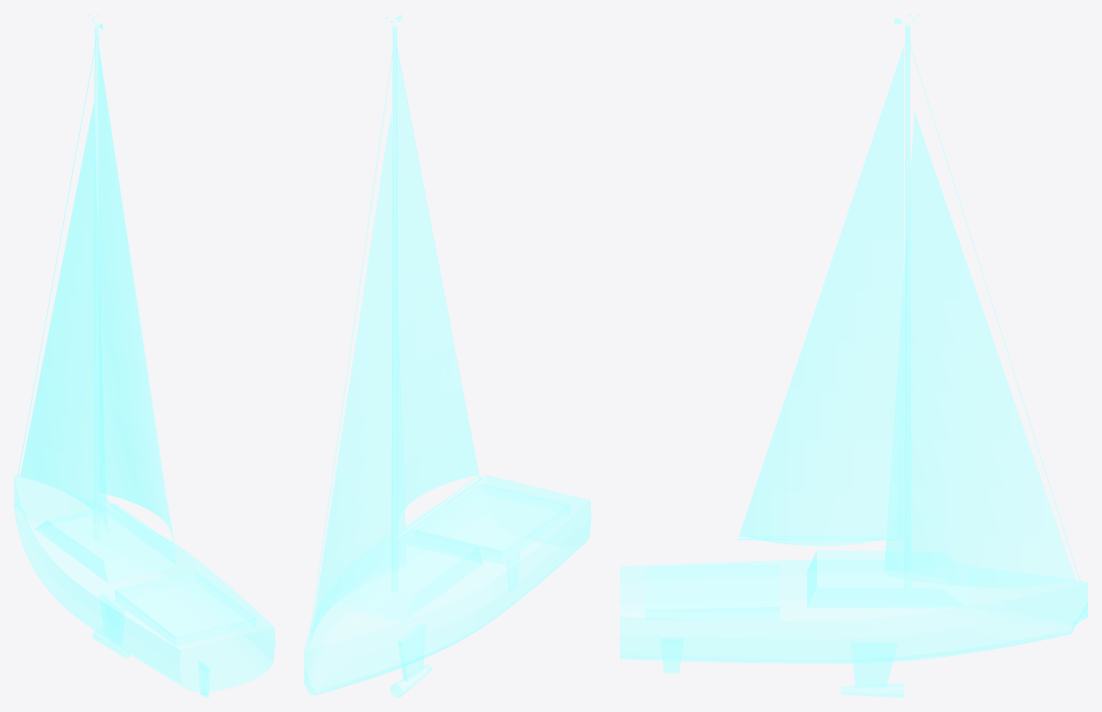
Rendered from vela.glb.
3 views of the same model, side by side, from view 1: azimuth 30°, elevation 25°; view 2: azimuth 150°, elevation 25°; view 3: azimuth 270°, elevation 25° (orthographic). The views are drawn at different scales.
Parts seen in each view (by area): view 1: Vela_Hull_Core, Vela_Sail_Jib, Vela_Sail_Main, Vela_Cabin_Core, Vela_Cockpit_Core, Vela_Mast, Vela_Keel, Vela_Forestay, Vela_Boom; view 2: Vela_Hull_Core, Vela_Sail_Jib, Vela_Sail_Main, Vela_Cabin_Core, Vela_Cockpit_Core, Vela_Mast, Vela_Keel, Vela_Forestay, Vela_Keel_Bulb, Vela_Boom; view 3: Vela_Sail_Jib, Vela_Sail_Main, Vela_Hull_Core, Vela_Cabin_Core, Vela_Cockpit_Core, Vela_Mast, Vela_Keel, Vela_Forestay, Vela_Keel_Bulb.
Boxes of the visible parts, x1,y1,x2,y2 form: Vela_Hull_Core: (14, 474, 275, 692); Vela_Sail_Jib: (20, 103, 107, 534); Vela_Sail_Main: (98, 45, 174, 546); Vela_Cabin_Core: (35, 503, 176, 583); Vela_Cockpit_Core: (115, 570, 256, 646); Vela_Mast: (93, 26, 99, 542); Vela_Keel: (99, 593, 124, 647); Vela_Forestay: (17, 38, 96, 477); Vela_Boom: (96, 493, 175, 552); Vela_Hull_Core: (304, 475, 591, 695); Vela_Sail_Jib: (309, 114, 406, 643); Vela_Sail_Main: (396, 44, 478, 533); Vela_Cabin_Core: (329, 528, 483, 622); Vela_Cockpit_Core: (415, 483, 570, 564); Vela_Mast: (391, 25, 398, 592); Vela_Keel: (398, 624, 425, 681); Vela_Forestay: (307, 38, 394, 648); Vela_Keel_Bulb: (390, 664, 431, 697); Vela_Boom: (394, 475, 481, 540); Vela_Sail_Jib: (884, 112, 1075, 587); Vela_Sail_Main: (739, 45, 904, 546); Vela_Hull_Core: (620, 559, 1087, 663); Vela_Cabin_Core: (807, 550, 967, 608); Vela_Cockpit_Core: (645, 564, 779, 619); Vela_Mast: (904, 24, 911, 590); Vela_Keel: (851, 642, 897, 688); Vela_Forestay: (907, 38, 1081, 583); Vela_Keel_Bulb: (840, 683, 904, 697).
Size of the model in its own units: 4.38 by 22.35 by 13.9.
